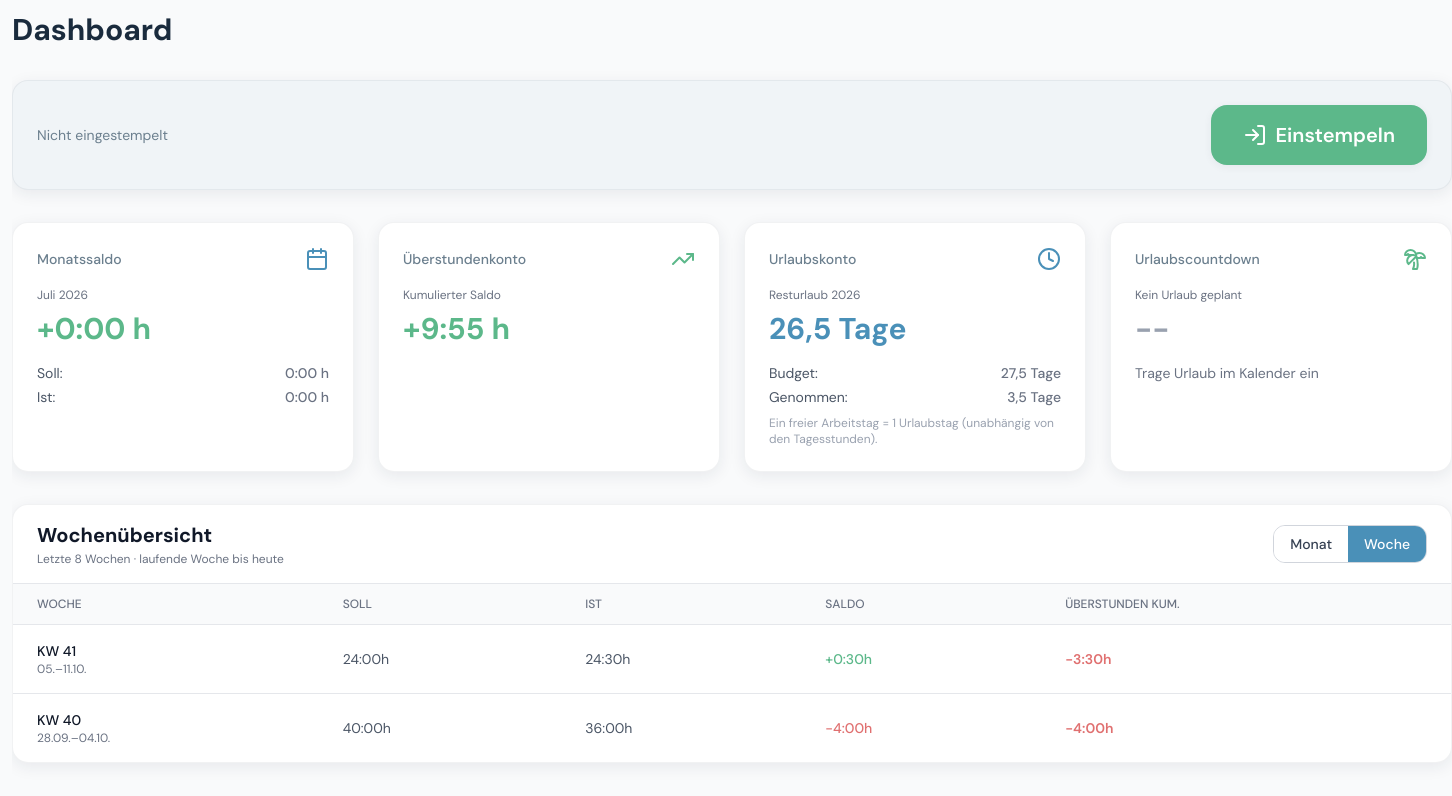
Test: Dashboard Übersicht Monat/Woche (#500) › merkt sich die Auswahl pro Browser
Check: the heading "Wochenübersicht" is shown, box [37,522,212,548]
Step 1. Click the button "Monat" → (1311, 544), box [1274,526,1348,562]
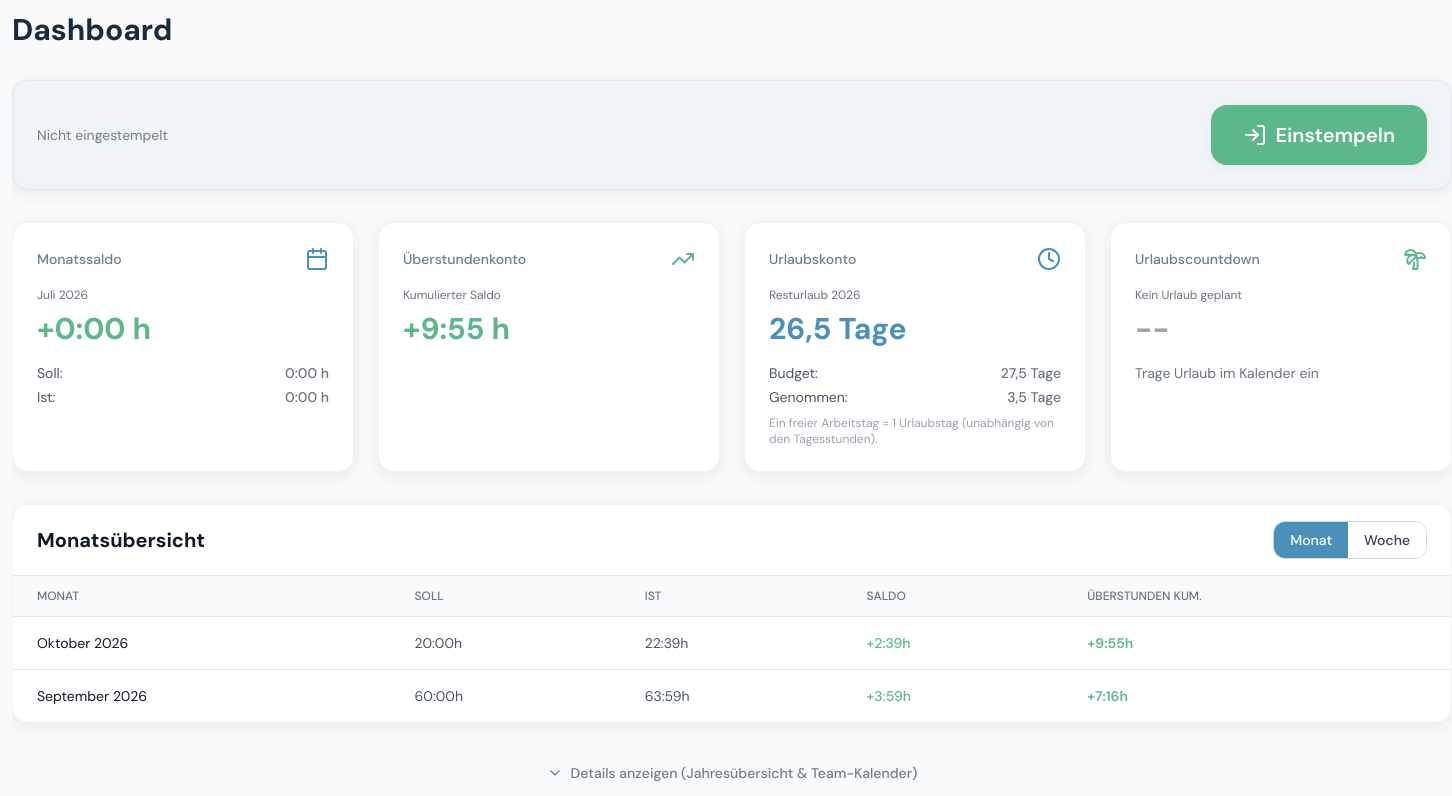
Check: the heading "Monatsübersicht" is shown, box [37,526,205,554]
